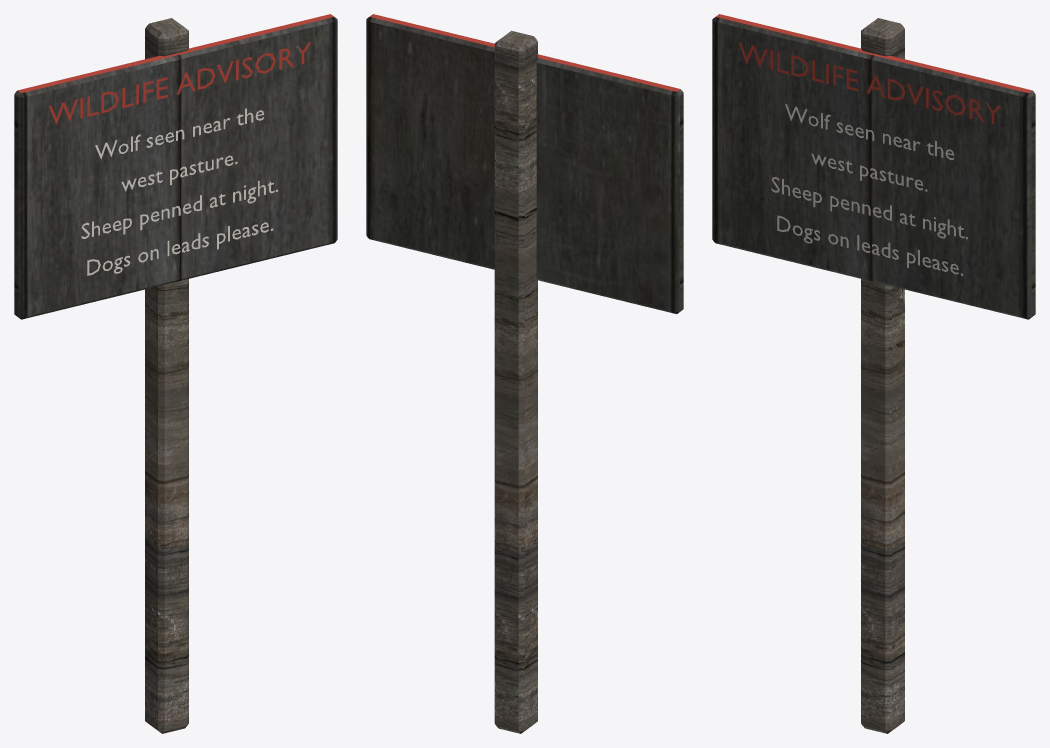
The model's file is farm_warning_sign_a.glb.
3 views of the same model, side by side, from view 1: azimuth 30°, elevation 25°; view 2: azimuth 150°, elevation 25°; view 3: azimuth 330°, elevation 25° (orthographic).
Parts seen in each view (by area): view 1: farm_warning_sign_a_LOD0; view 2: farm_warning_sign_a_LOD0; view 3: farm_warning_sign_a_LOD0.
Part boxes in pixels (<box>): farm_warning_sign_a_LOD0: <box>14,14,337,733</box>; farm_warning_sign_a_LOD0: <box>366,14,683,733</box>; farm_warning_sign_a_LOD0: <box>712,14,1035,733</box>.
Size of the model in its own units: 0.62 by 1.3 by 0.0735.
4 materials, 2 textured.
